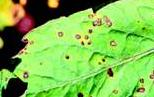Tomato leaf bacterial spot: (9, 0, 154, 97)
